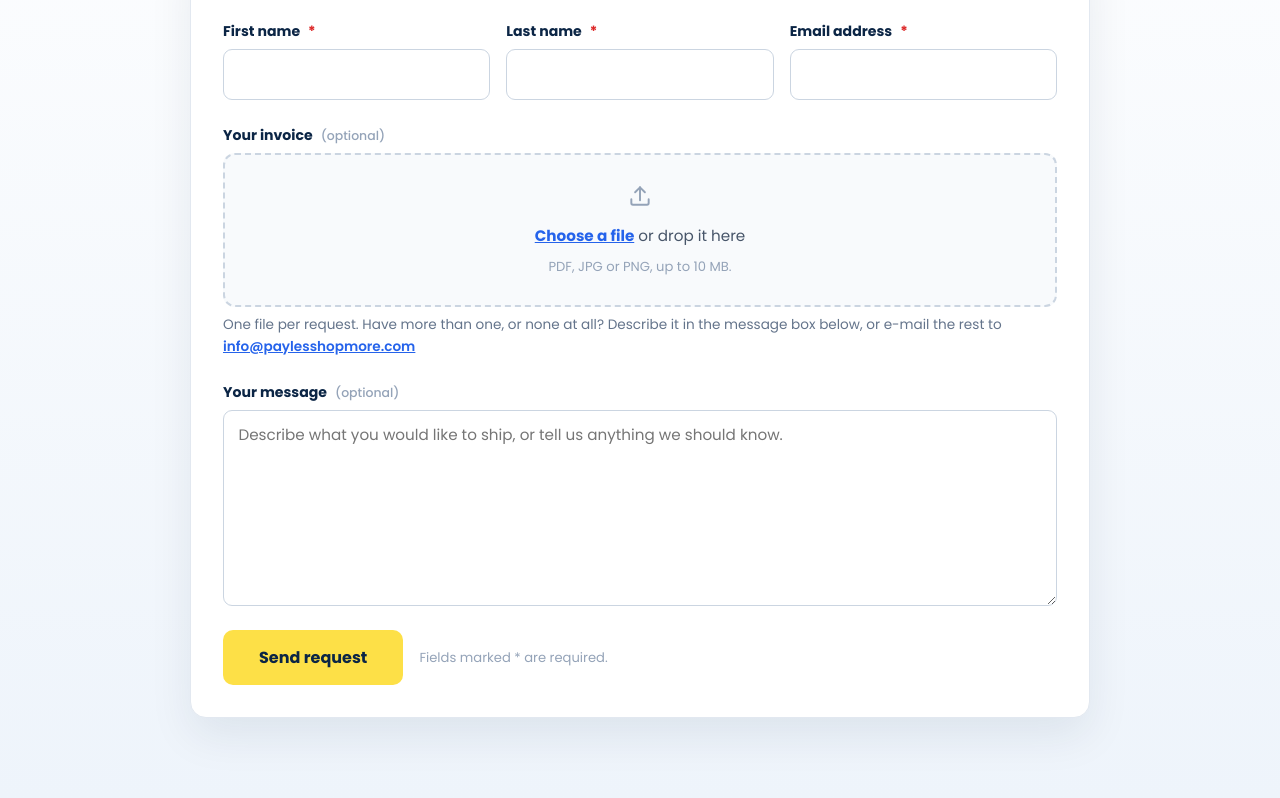
QuoteForm › clears the error on a field as soon as it is corrected
(page scrolled)
Click the button "Send request" at [313, 658], box [223,630,403,685]
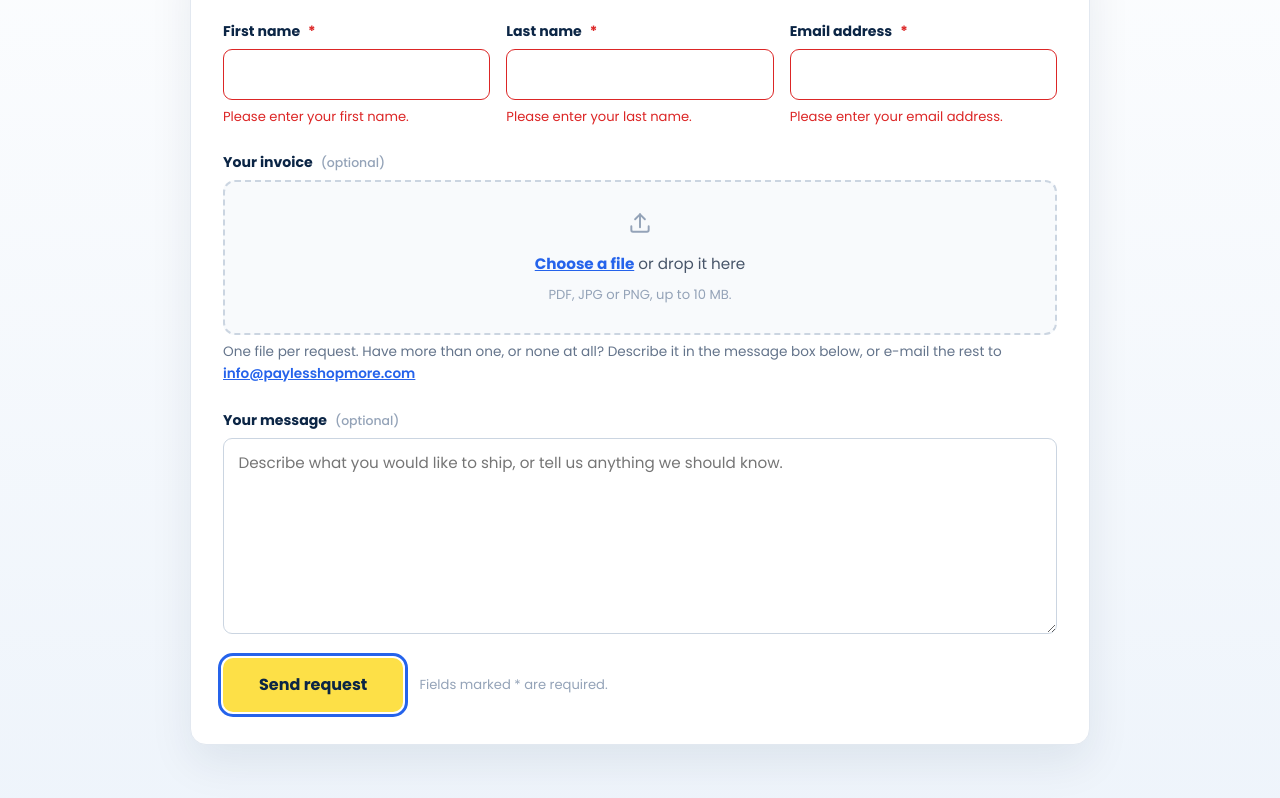
Check: the text "Please enter your first name." is shown, box [223,107,409,126]
Type "Ana" into the field labelled "First name * Please enter your first name." at [357, 75], box [223,49,490,100]
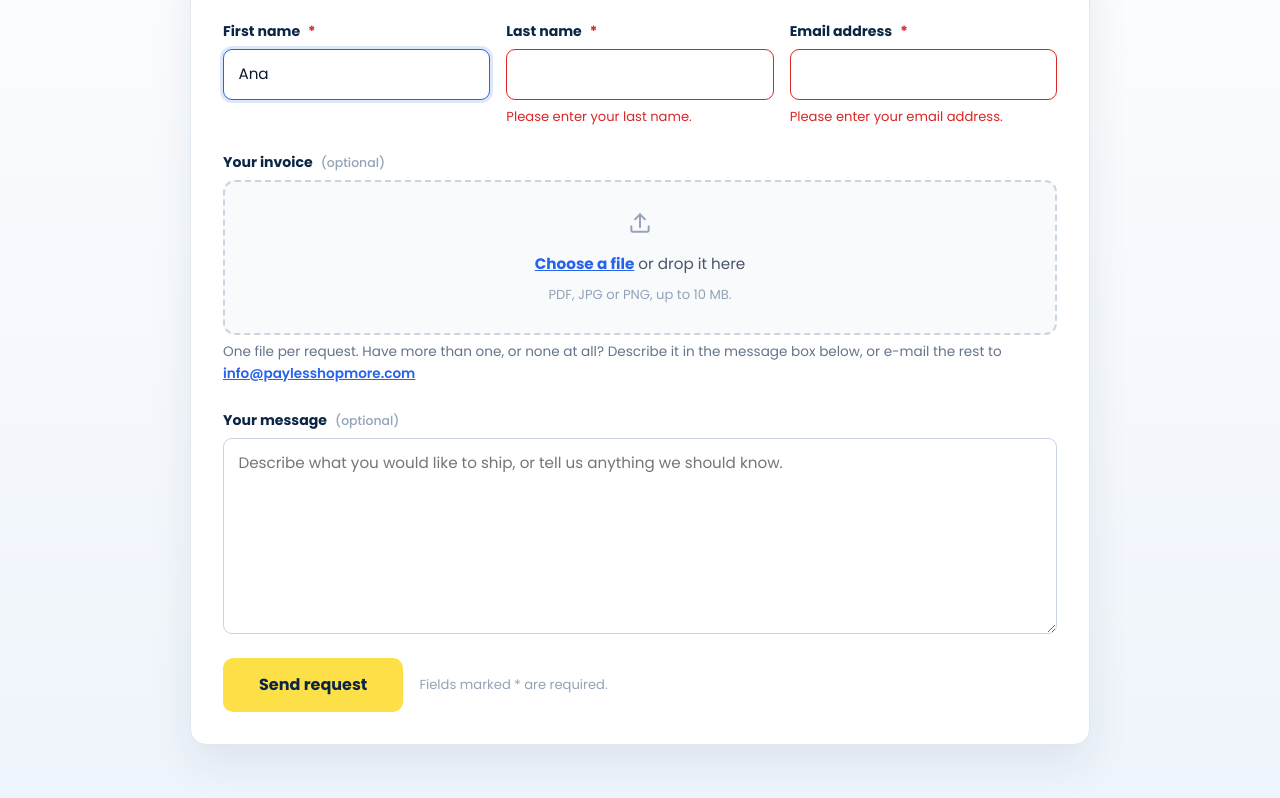
Check: the text "Please enter your first name." is gone
